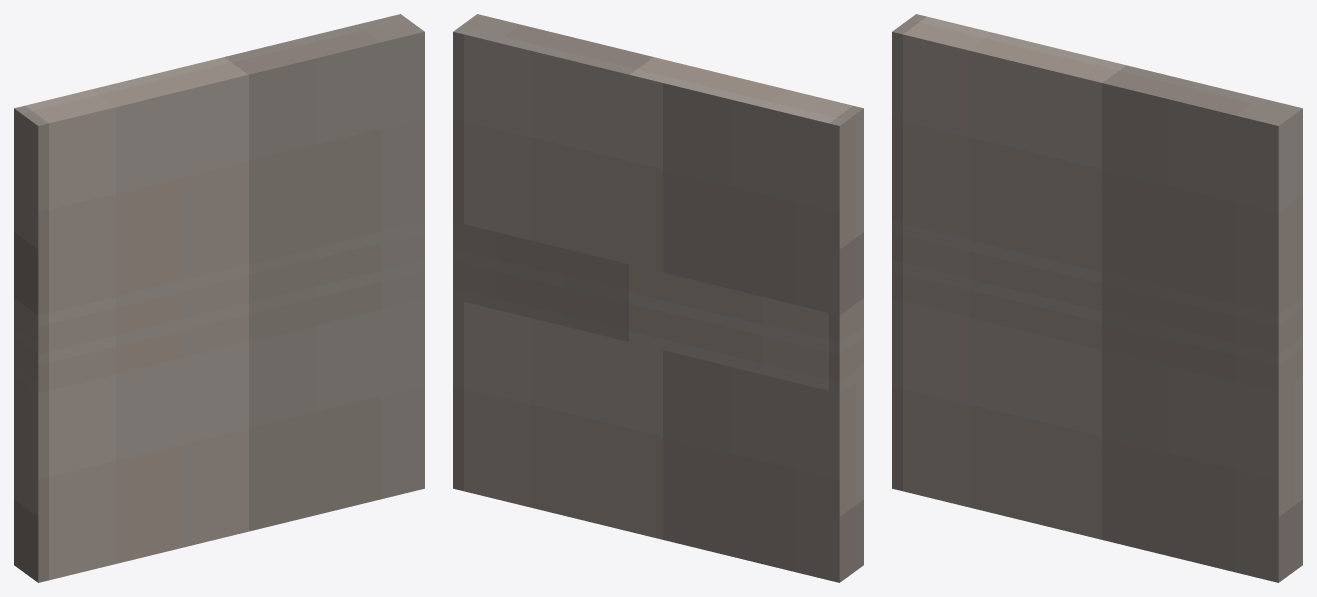
The model's file is Rejunte.fbx.
The picture shows the model from 3 angles, left to right: view 1: azimuth 30°, elevation 25°; view 2: azimuth 150°, elevation 25°; view 3: azimuth 330°, elevation 25°; orthographic projection.
Visible parts, largest first — view 1: Plano.014; view 2: Plano.014; view 3: Plano.014.
Boxes of the visible parts, box(x1,y1,x2,y2) form: Plano.014: box(14, 14, 424, 582); Plano.014: box(453, 14, 863, 582); Plano.014: box(892, 14, 1302, 582).
Size of the model in its own units: 19.99 by 22.57 by 2.17.
